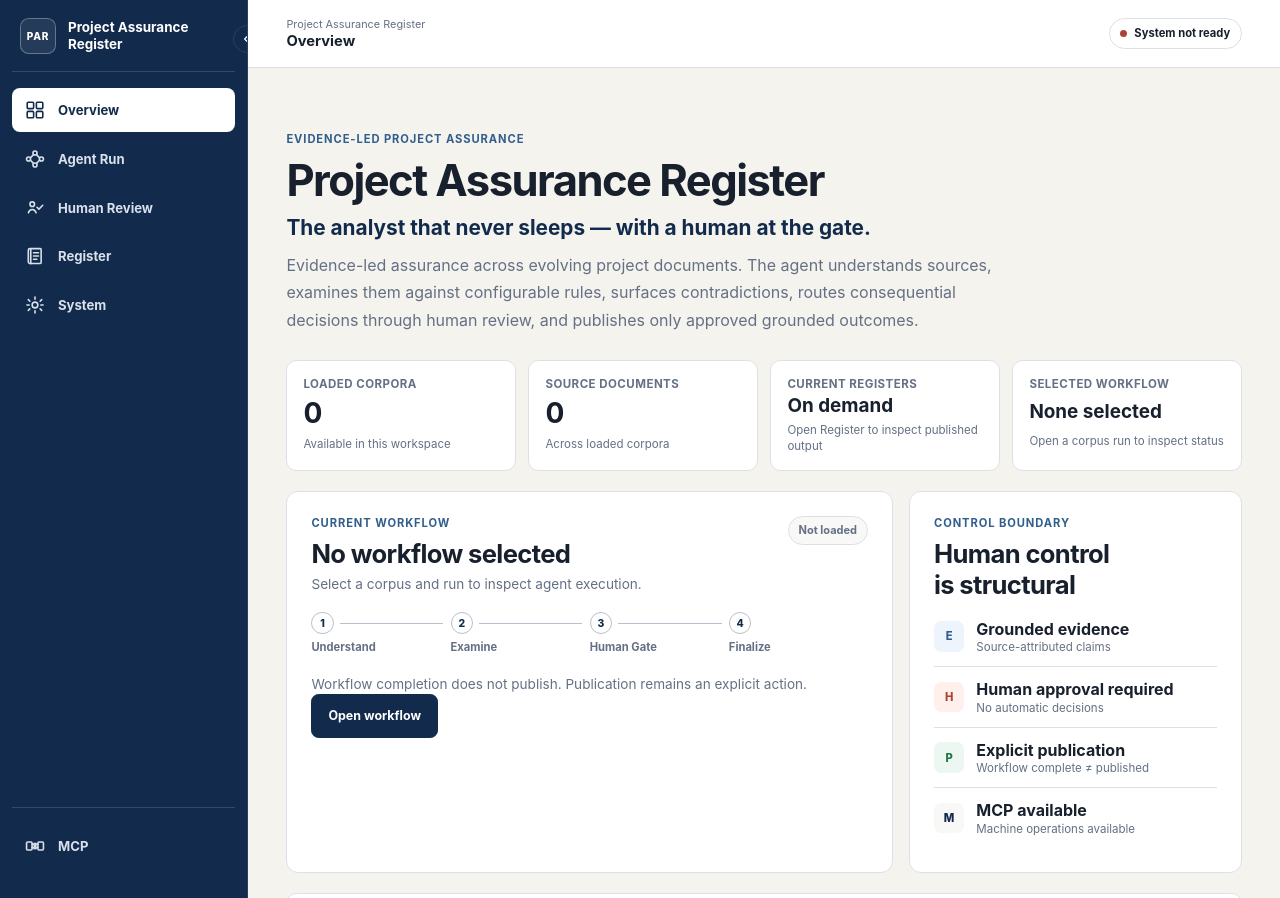
Test: App › shows an actionable dependency-unavailable state
Click the button "System".
click(124, 305)  # box [12,283,235,327]
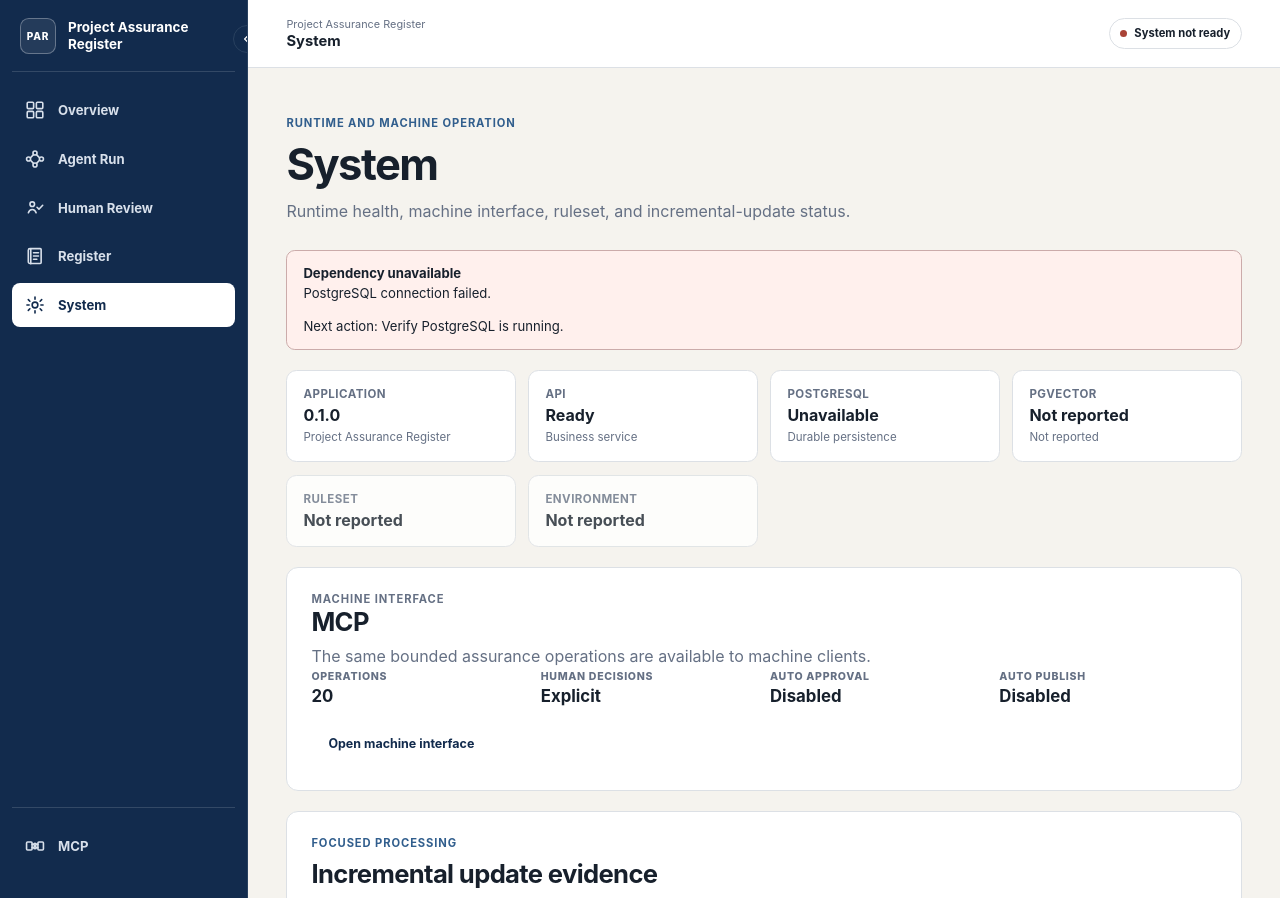
Check: the text "Dependency unavailable" is shown, box [303,265,461,281]
Check: the text "PostgreSQL connection failed." is shown, box [303,285,491,301]
Check: the text "Next action: Verify PostgreSQL is running." is shown, box [303,318,563,334]
